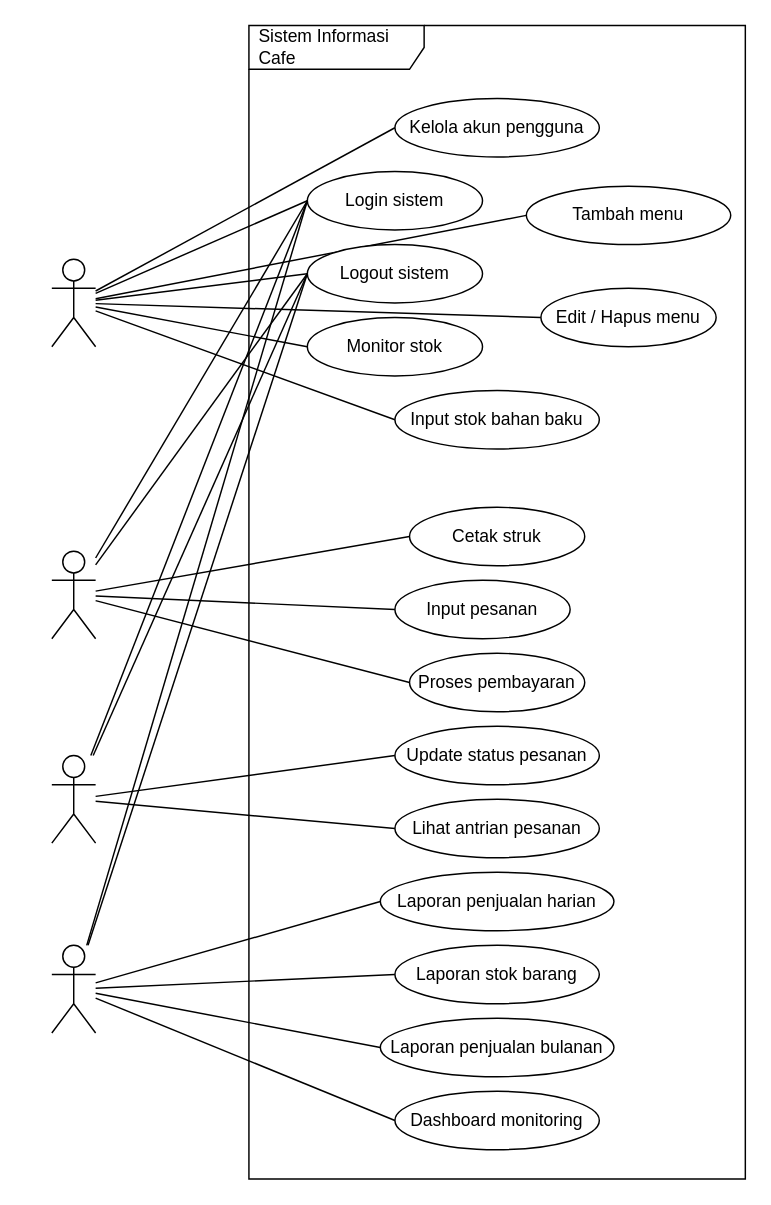
Some shapes in this 771 by 1205 pixel diagram are drawn without their labels. The centre of each missing label's shape, as x and y in pixels:
Admin: the point at 73,302
Barista: the point at 73,798
Kasir: the point at 73,594
Pemilik Café: the point at 73,988
